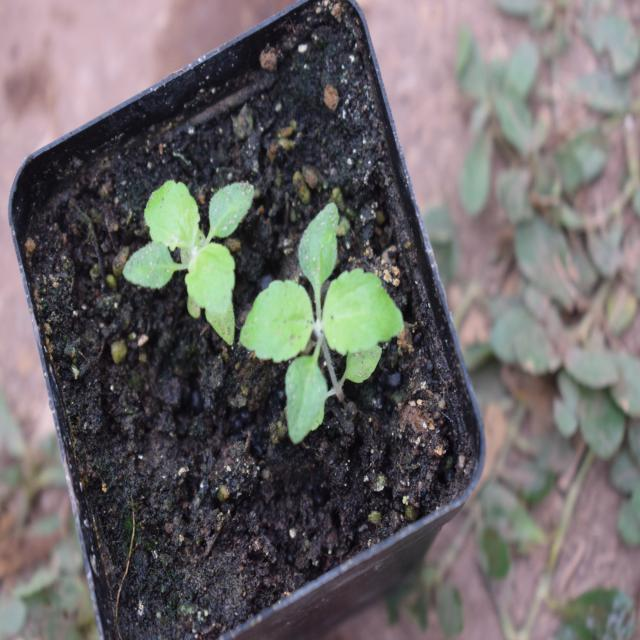billygoat_weed: (251, 222, 413, 434), (125, 160, 258, 344)
